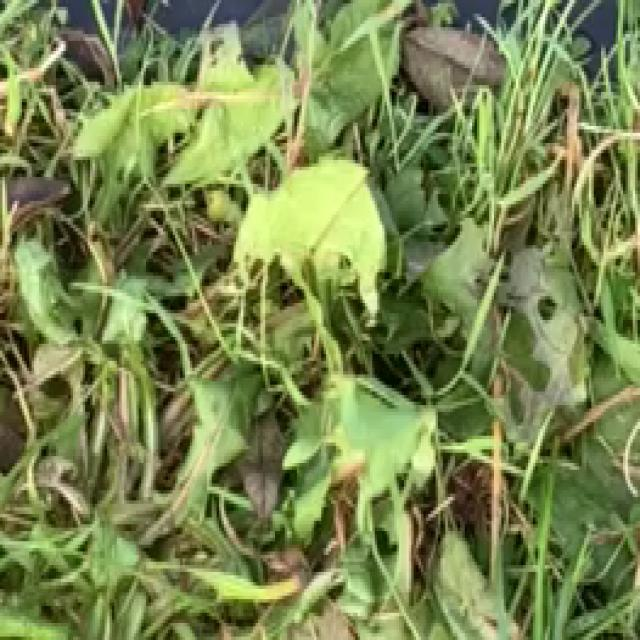organic waste: (29, 21, 492, 477)
